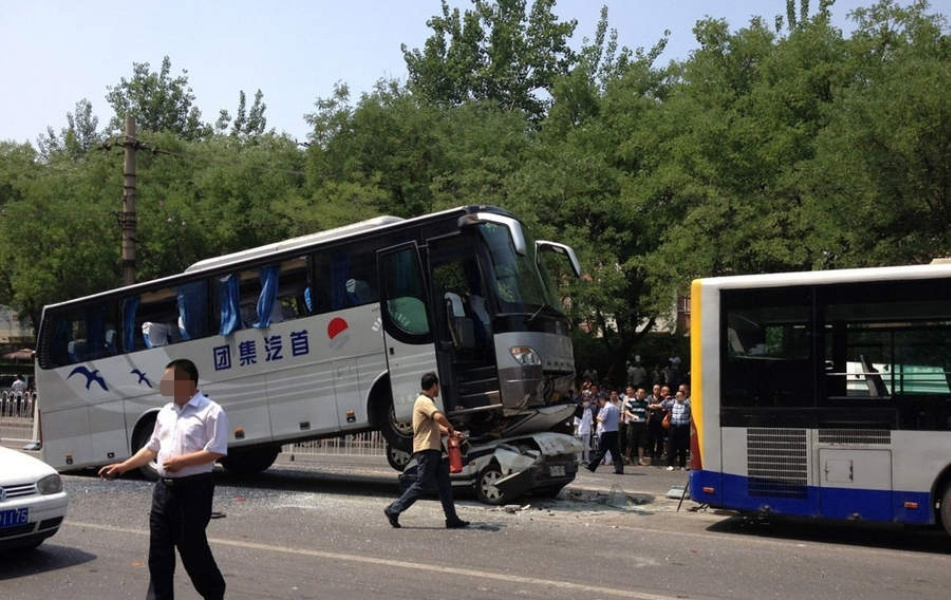text: (225, 328, 240, 377), (241, 328, 256, 377), (257, 328, 272, 377), (273, 328, 288, 377), (289, 328, 304, 377), (210, 328, 224, 377), (305, 328, 315, 377), (3, 508, 16, 530), (17, 508, 30, 530)
